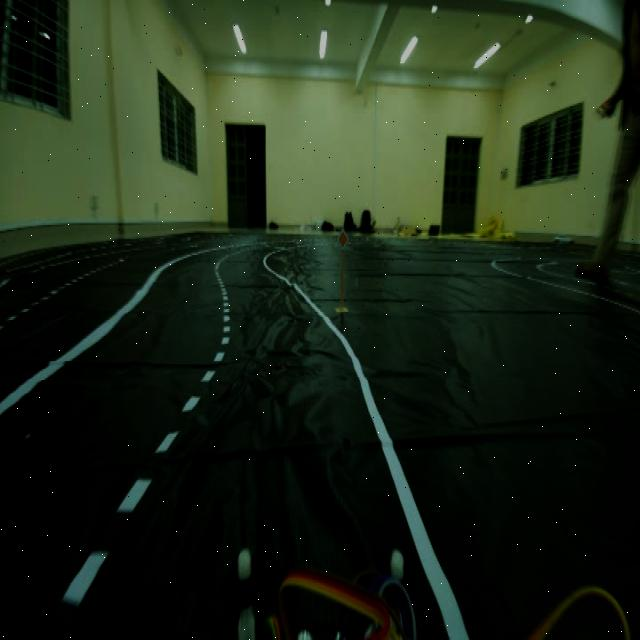priority: (334, 225, 351, 252)
